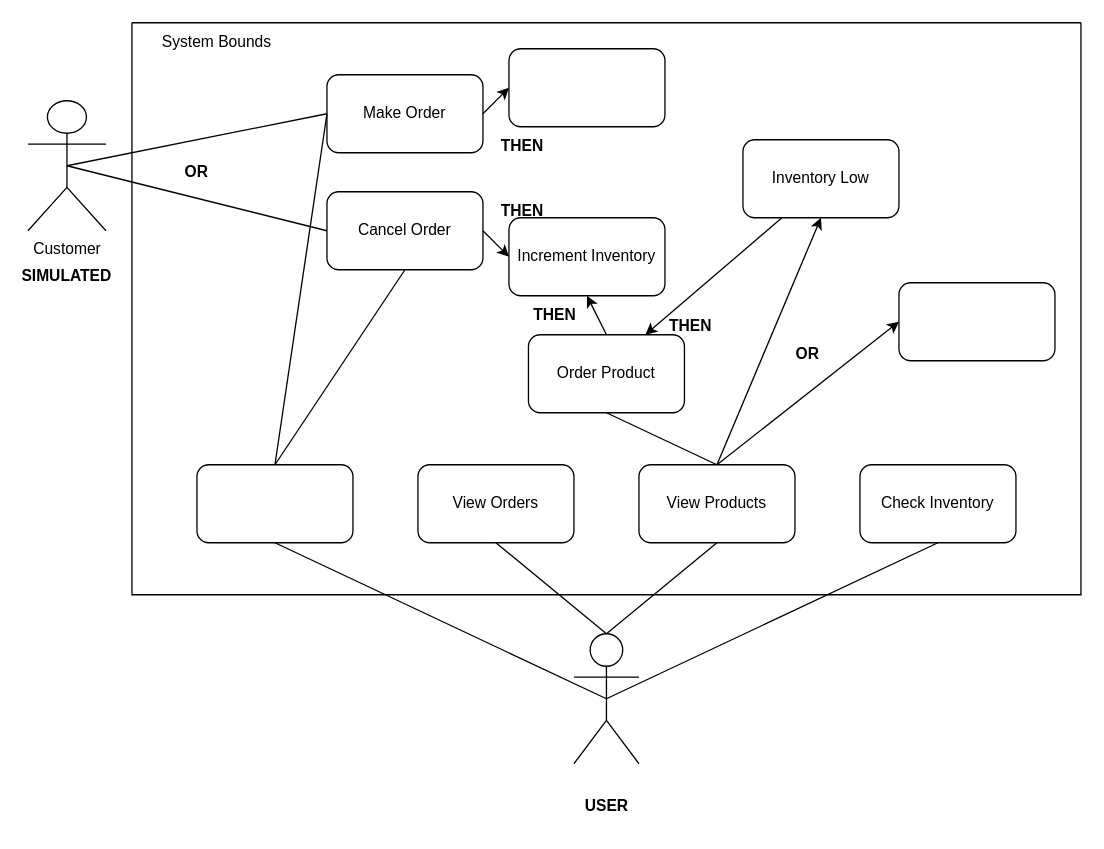
Image size: 1104x849. Some labels were removed from this diagram. Here are the shapes that lost their labels. From the top down, the centre of each, then its label:
point 586,87: Decrement Inventory
point 976,321: Inventory Sufficient
point 274,503: View Customers
point 606,698: Employee
